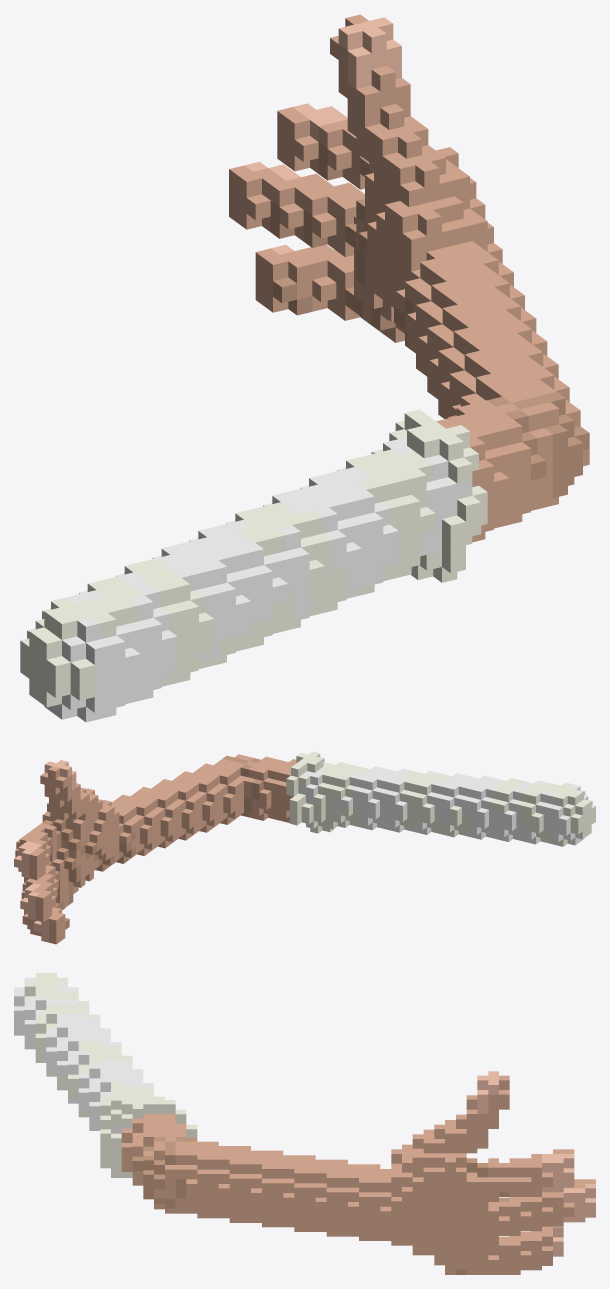
The model's file is main_droite.obj.
3 views of the same model, one above another, from view 1: azimuth 30°, elevation 25°; view 2: azimuth 150°, elevation 25°; view 3: azimuth 270°, elevation 25° (orthographic). The views are drawn at different scales.
Bounding box in the file's own units: 49 × 19 × 54.
Materials: 1 (1 with a texture image).
